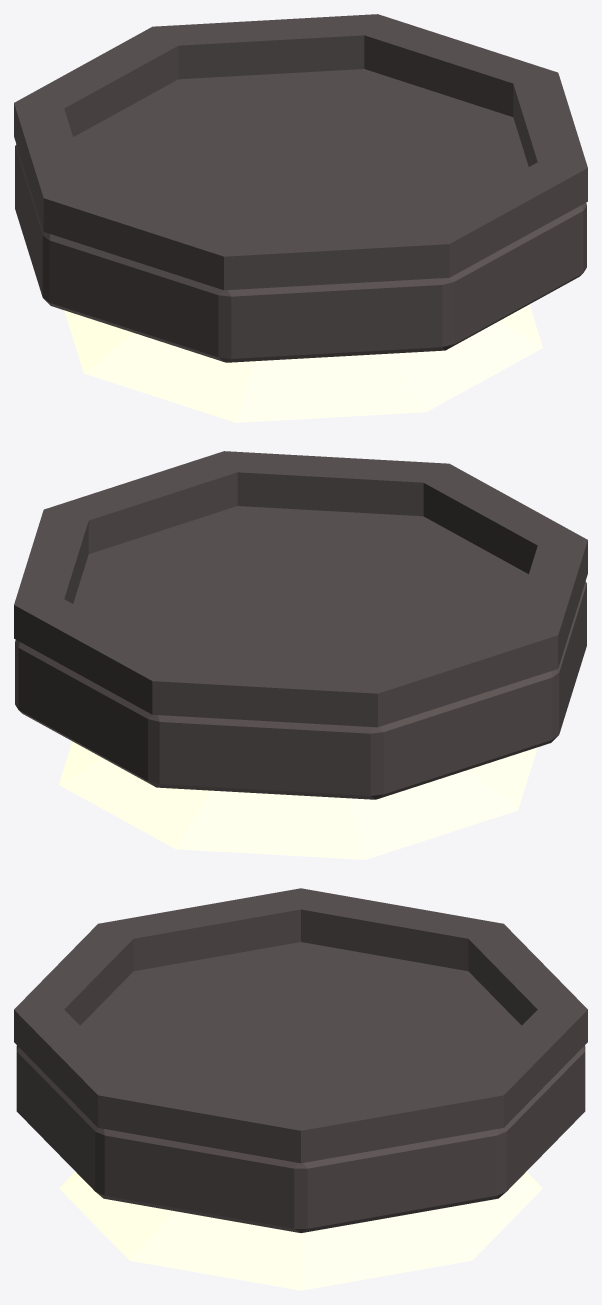
The model's file is LavaRaft.fbx.
The picture shows the model from 3 angles, top to bottom: view 1: azimuth 30°, elevation 25°; view 2: azimuth 150°, elevation 25°; view 3: azimuth 270°, elevation 25°; orthographic projection. The views are drawn at different scales.
Visible parts, largest first — view 1: LavaRaft; view 2: LavaRaft; view 3: LavaRaft.
Part boxes in pixels (x1,y1,x2,y2): LavaRaft: (14, 14, 587, 422); LavaRaft: (14, 451, 587, 859); LavaRaft: (14, 888, 587, 1290).
Bounding box in the file's own units: 3.2 × 1.1 × 3.2.
